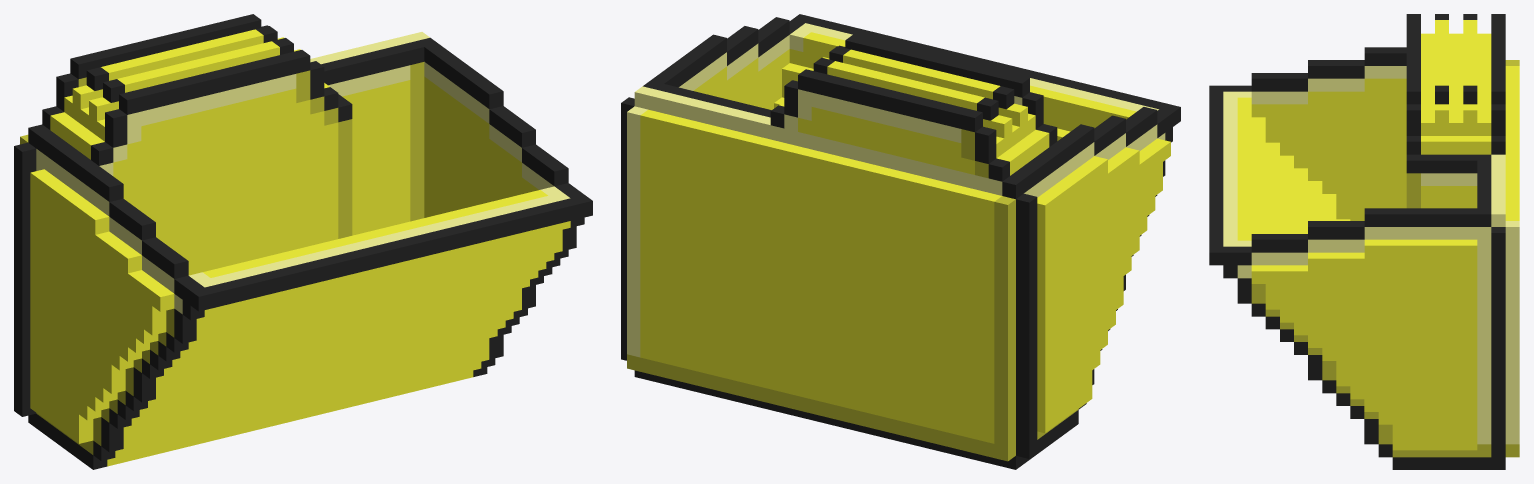
Rendered from FoldOpen.fbx.
3 renders of one model, left to right at view 1: azimuth 30°, elevation 25°; view 2: azimuth 150°, elevation 25°; view 3: azimuth 270°, elevation 25°, orthographic. The views are drawn at different scales.
Parts seen in each view (by area): view 1: Untitled.031; view 2: Untitled.031; view 3: Untitled.031.
Boxes of the visible parts, box(x1,y1,x2,y2) form: Untitled.031: box(14, 14, 592, 469); Untitled.031: box(621, 14, 1180, 469); Untitled.031: box(1209, 14, 1519, 469).
Size of the model in its own units: 300 by 240 by 220.
Materials: 2 (2 with a texture image).
